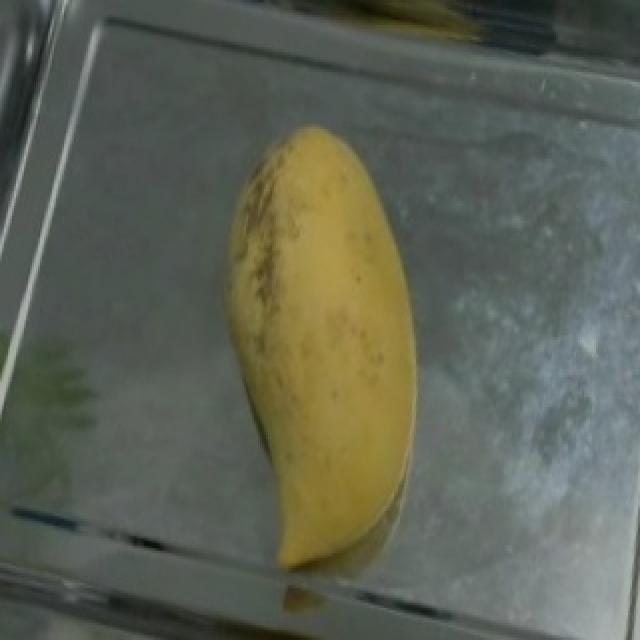fruit: (200, 104, 498, 506)
